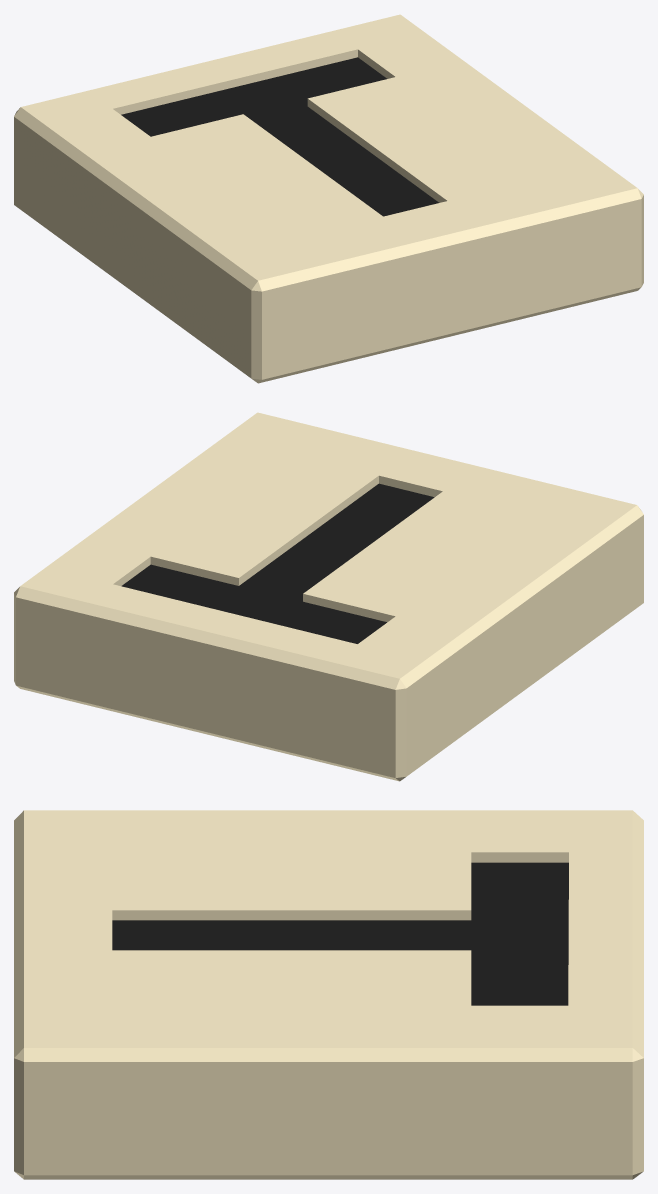
Rendered from Game_Anagram_Tile_T_01.fbx.
3 views of the same model, one above another, from view 1: azimuth 30°, elevation 25°; view 2: azimuth 150°, elevation 25°; view 3: azimuth 270°, elevation 25° (orthographic). The views are drawn at different scales.
Parts seen in each view (by area): view 1: Game_Anagram_Tile_T_01; view 2: Game_Anagram_Tile_T_01; view 3: Game_Anagram_Tile_T_01.
Part boxes in pixels (<box>): Game_Anagram_Tile_T_01: <box>14,14,643,383</box>; Game_Anagram_Tile_T_01: <box>14,412,643,781</box>; Game_Anagram_Tile_T_01: <box>14,810,643,1179</box>.
Bounding box in the file's own units: 16.4 × 4.1 × 17.77.
